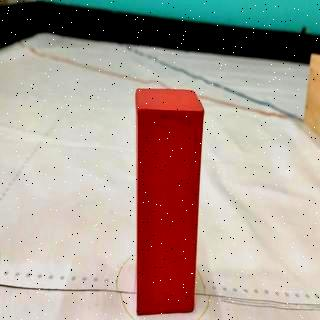redbox: (136, 87, 206, 320)
